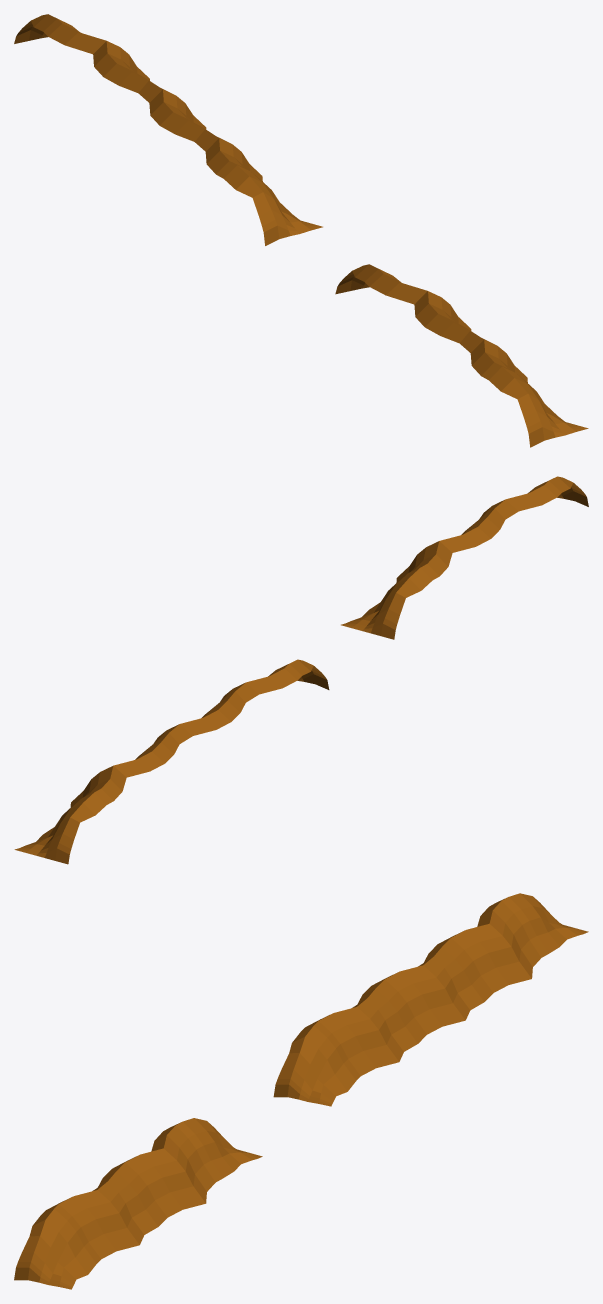
Rendered from Sand dunes Joined.glb.
The picture shows the model from 3 angles, top to bottom: view 1: azimuth 30°, elevation 25°; view 2: azimuth 150°, elevation 25°; view 3: azimuth 330°, elevation 25°; orthographic projection. The views are drawn at different scales.
Visible parts, largest first — view 1: Cylinder.005; view 2: Cylinder.005; view 3: Cylinder.005.
Part boxes in pixels (x1,y1,x2,y2): Cylinder.005: (14, 14, 588, 447); Cylinder.005: (14, 476, 588, 864); Cylinder.005: (14, 893, 588, 1289).
Bounding box in the file's own units: 49.09 × 25.82 × 472.
